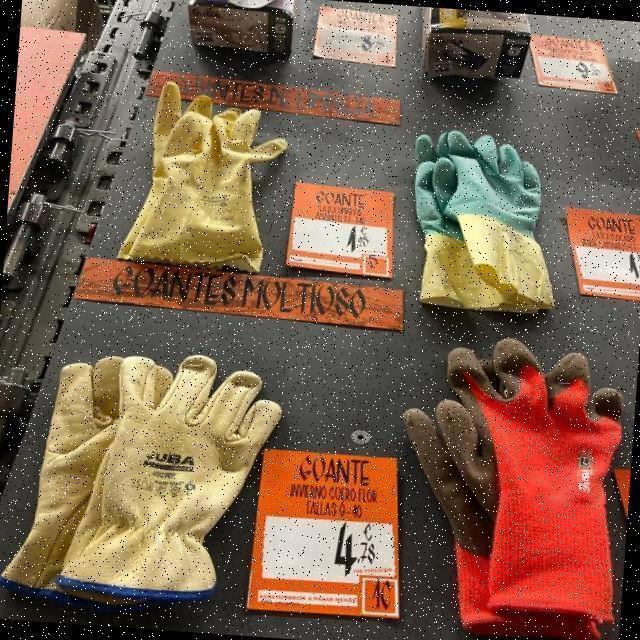Gloves: (414, 333, 626, 639), (51, 349, 248, 585)
